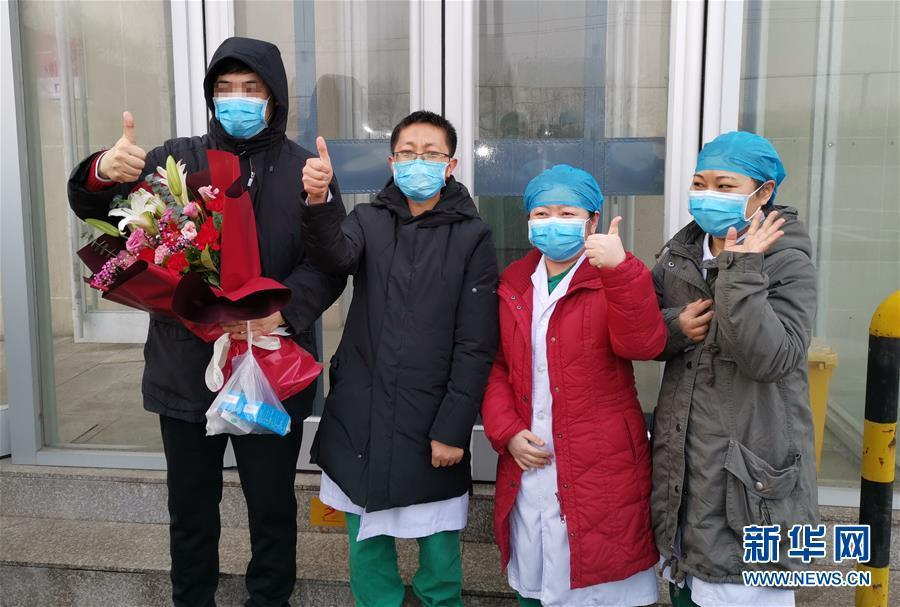mask: (685, 171, 755, 241), (525, 204, 588, 265), (391, 138, 446, 205), (209, 75, 267, 136)
